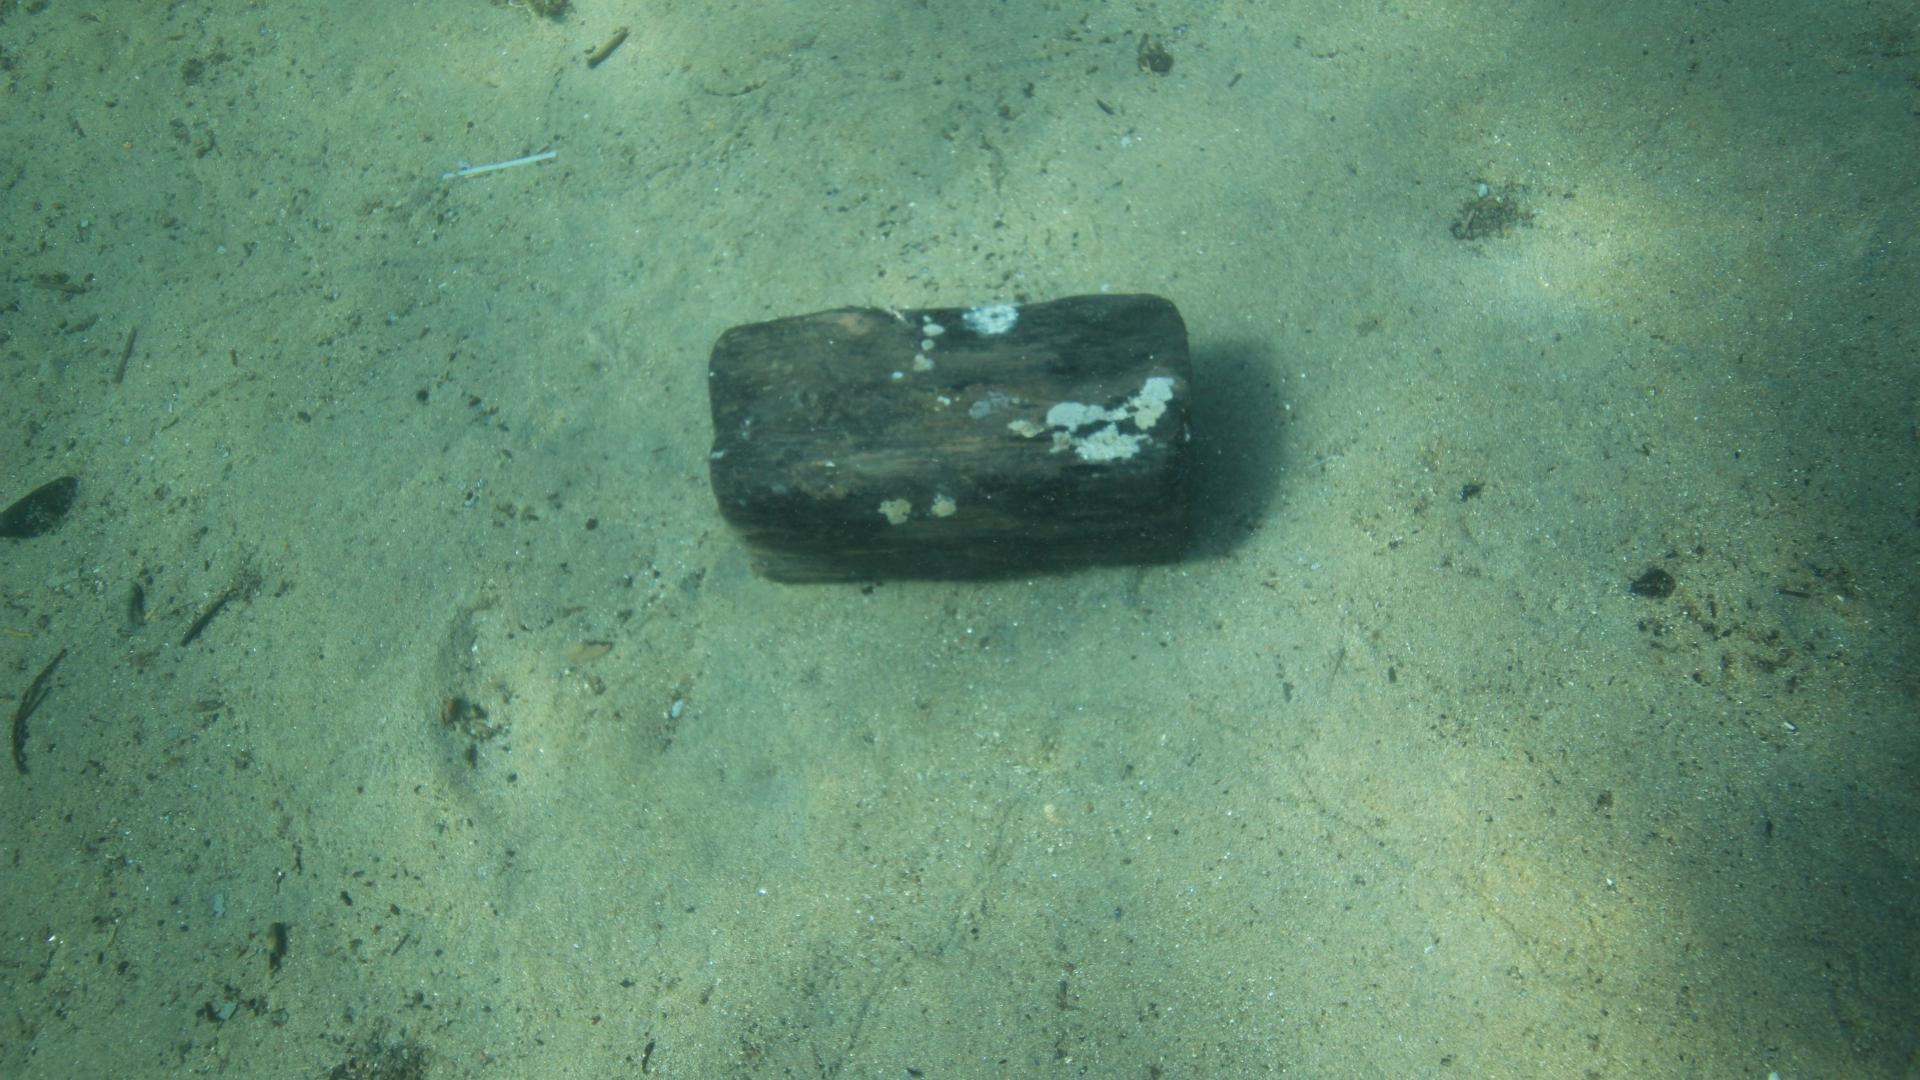wood: (705, 291, 1192, 584)
